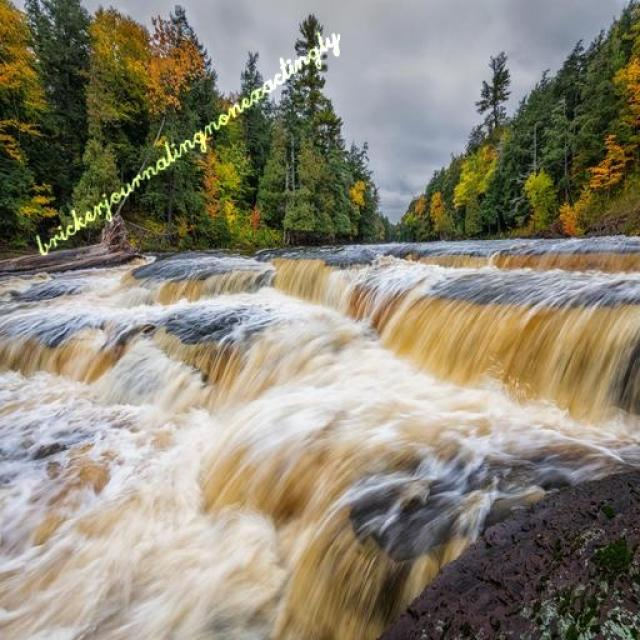watermark: (35, 16, 341, 260)
